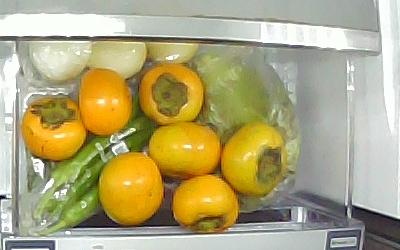persimmon: (221, 123, 287, 197), (100, 153, 164, 226), (22, 95, 86, 161), (172, 173, 238, 235), (148, 124, 221, 179), (79, 67, 133, 137), (140, 64, 203, 124)
